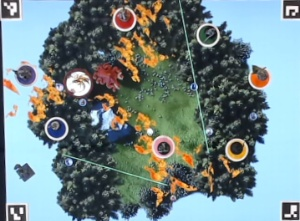blue: (44, 115, 70, 142)
green: (196, 21, 220, 48)
orange: (246, 67, 271, 90)
pink: (150, 133, 176, 160)
red: (111, 5, 137, 31)
violet: (13, 63, 38, 86)
yellow: (223, 135, 250, 162)
